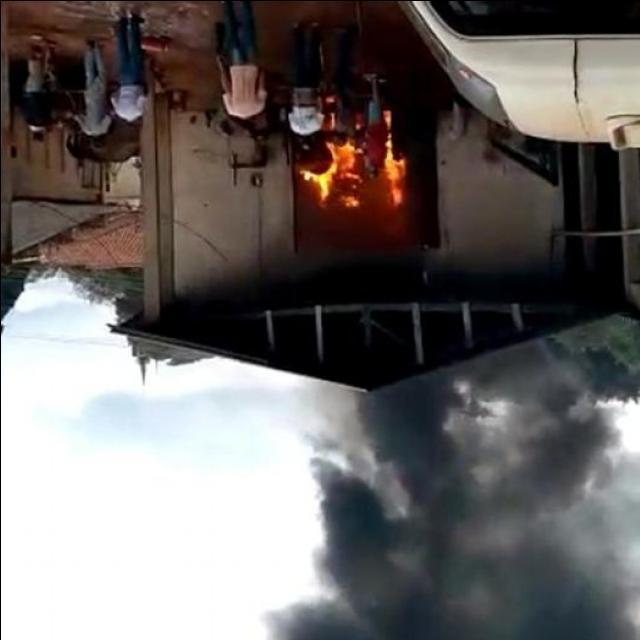Fire: (299, 134, 412, 218)
